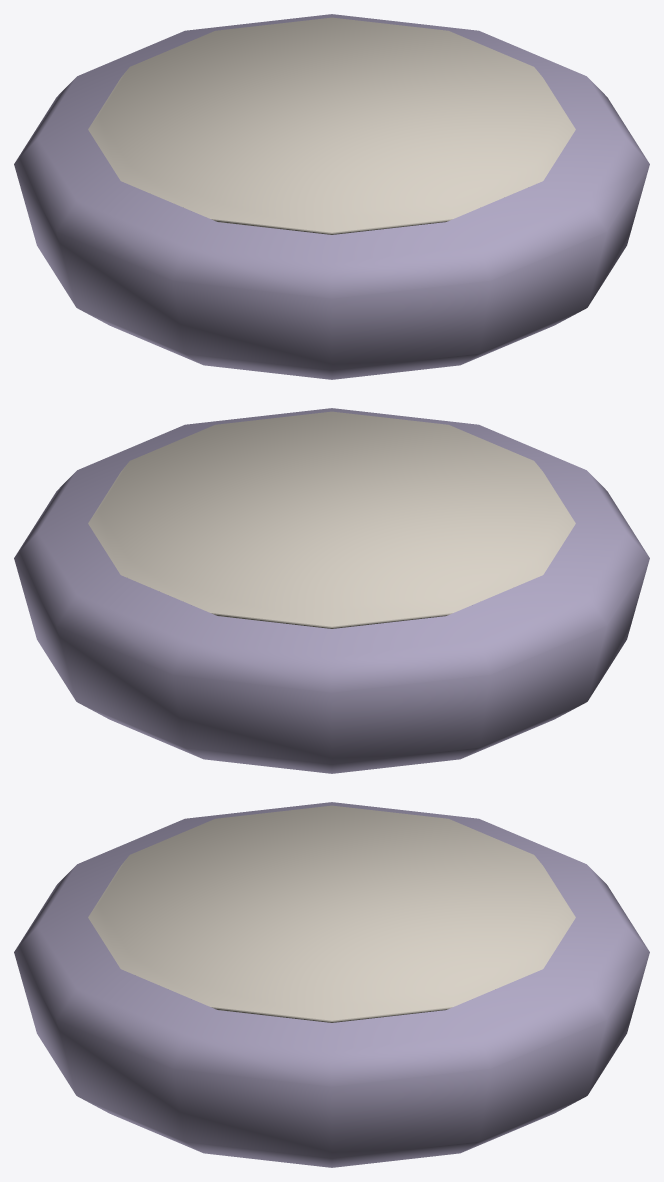
Rendered from prop-moka-mold.glb.
3 renders of one model, top to bottom at view 1: azimuth 30°, elevation 25°; view 2: azimuth 150°, elevation 25°; view 3: azimuth 270°, elevation 25°, orthographic.
Visible parts, largest first — view 1: prop-moka-mold; view 2: prop-moka-mold; view 3: prop-moka-mold.
Part boxes in pixels (x1,y1,x2,y2): prop-moka-mold: (14, 14, 649, 379); prop-moka-mold: (14, 408, 649, 773); prop-moka-mold: (14, 802, 649, 1167).
Size of the model in its own units: 0.26 by 0.07 by 0.26.
